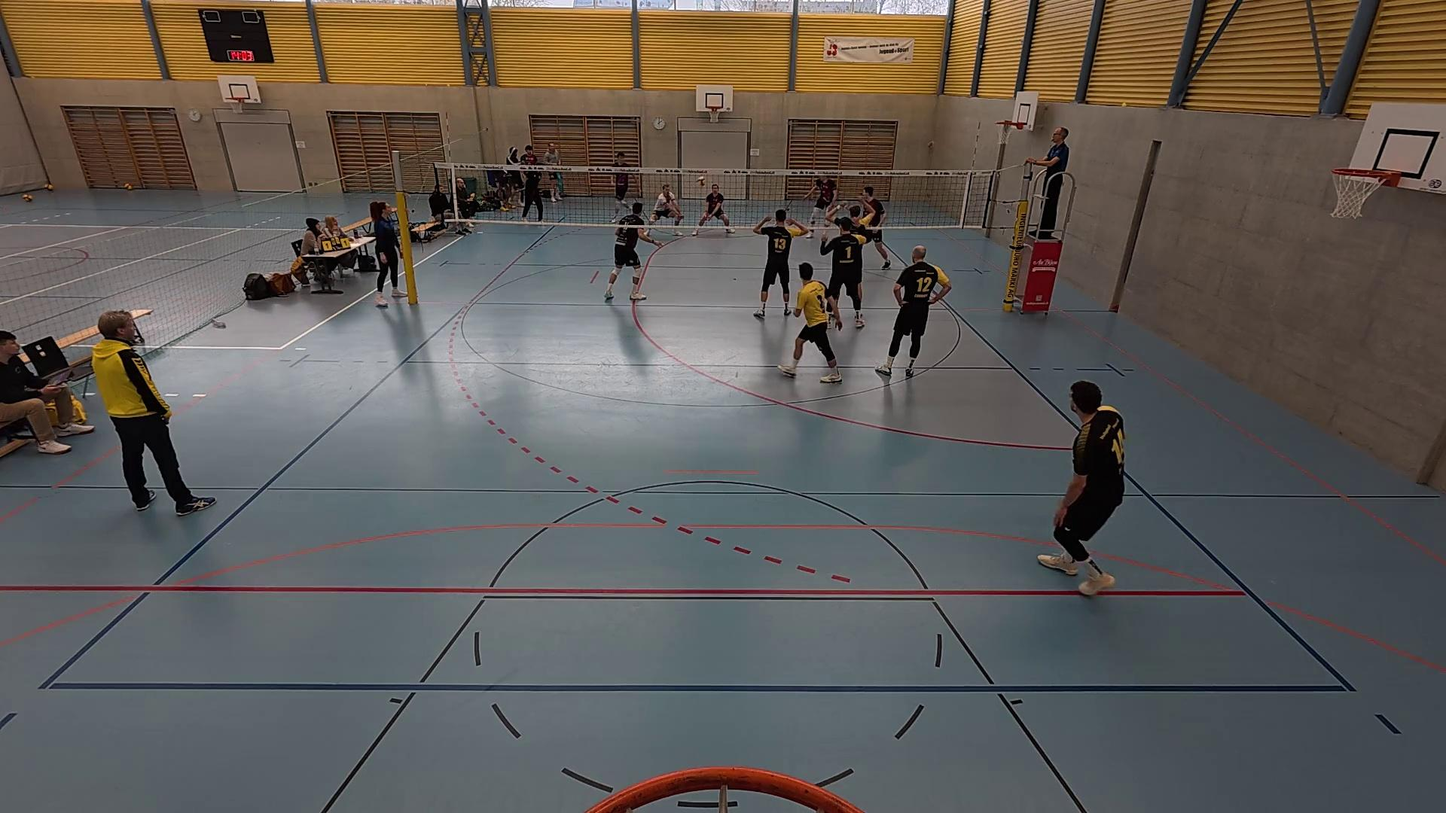Player: (1039, 380, 1126, 595), (877, 246, 949, 378), (779, 264, 842, 383), (753, 207, 810, 318), (604, 201, 667, 301), (822, 194, 876, 308), (819, 209, 869, 329), (858, 185, 895, 272), (689, 178, 732, 238), (610, 150, 636, 221), (808, 175, 836, 231)
ball: (699, 174, 710, 187)
